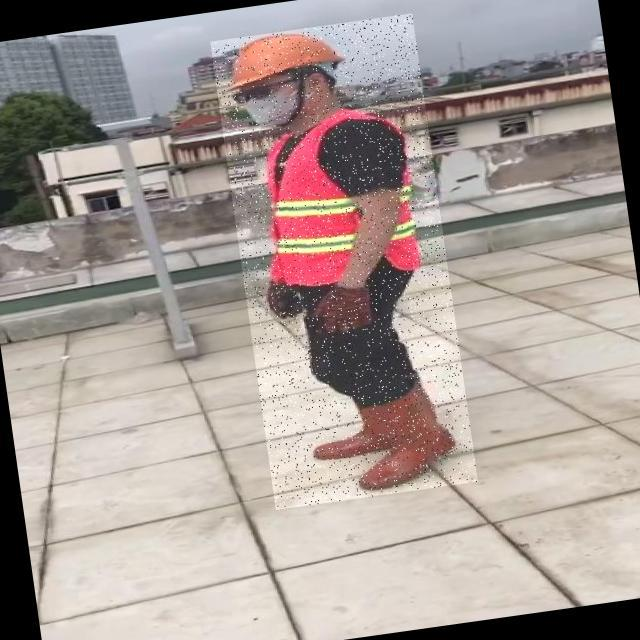Gloves: (312, 284, 378, 336), (265, 282, 308, 323)
Helmet: (221, 25, 344, 87)
Human: (210, 13, 478, 510)
Safety Boot: (349, 388, 461, 493), (310, 432, 361, 460)
Safety Vest: (253, 109, 430, 290)
